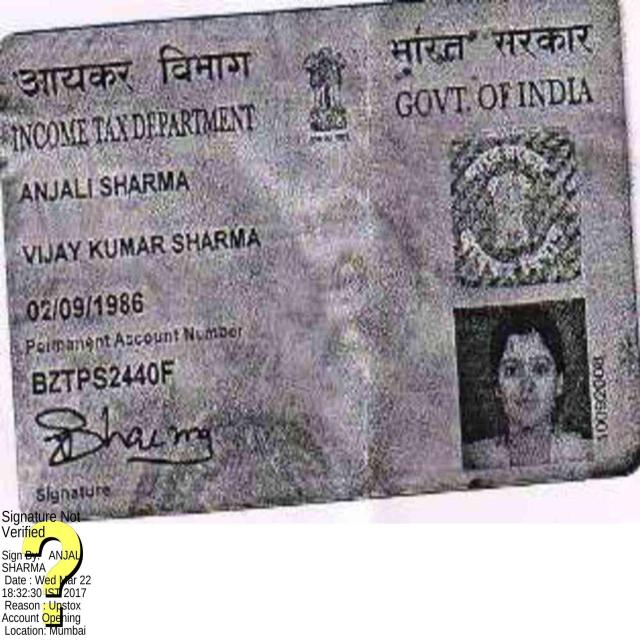pan_card: (2, 0, 640, 520)
